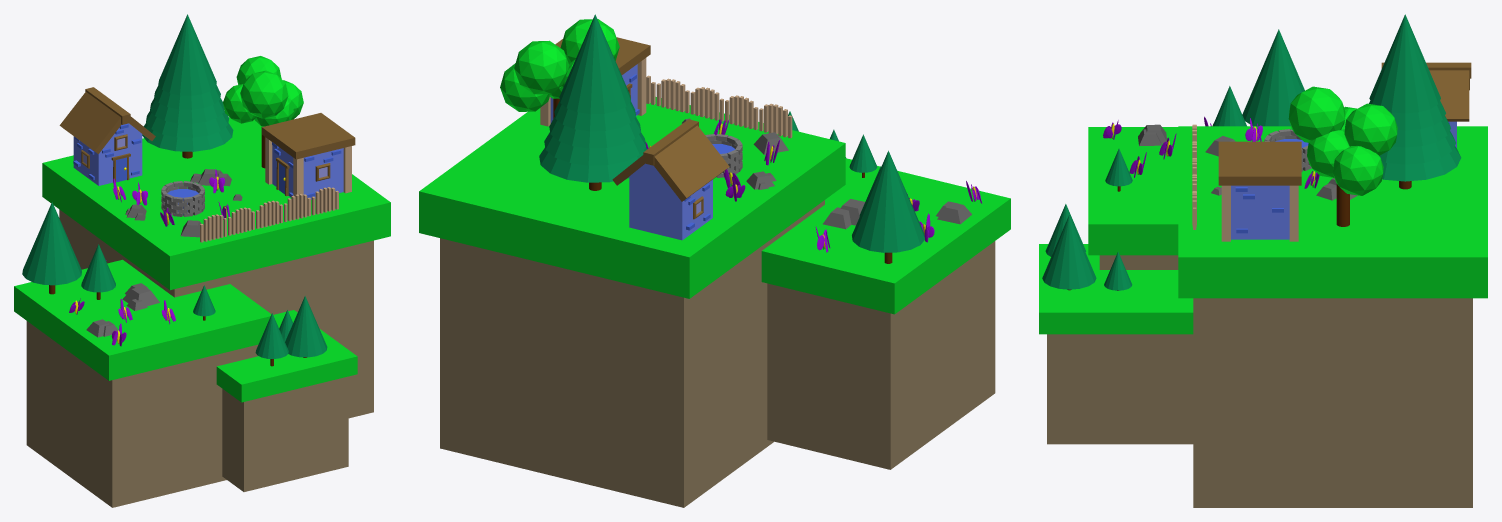
The model's file is island.glb.
The picture shows the model from 3 angles, left to right: view 1: azimuth 30°, elevation 25°; view 2: azimuth 150°, elevation 25°; view 3: azimuth 270°, elevation 25°; orthographic projection. The views are drawn at different scales.
Visible parts, largest first — view 1: Cube.160, Cube.001, Cube.161, Cube, Cube.162, Cube.163, Cone, Cube.119, Cone.005, Cube.038, Cube.039, Cube.113 (+13 smaller); view 2: Cube, Cube.001, Cube.160, Cube.161, Cone, Cone.005, Cube.039, Cube.038, Icosphere.007, Cone.002, Cone.003, Cone.001 (+5 smaller); view 3: Cube, Cube.001, Cube.162, Cube.161, Cube.163, Cone.005, Cube.119, Cone, Cube.113, Icosphere.010, Cone.006, Icosphere.007 (+14 smaller).
Part boxes in pixels (x1,y1,x2,y2): Cube.160: [26, 321, 258, 507]; Cube.001: [42, 117, 390, 290]; Cube.161: [14, 259, 271, 380]; Cube: [59, 209, 373, 418]; Cube.162: [222, 376, 348, 491]; Cube.163: [216, 310, 357, 402]; Cone: [22, 202, 81, 285]; Cube.119: [262, 113, 355, 159]; Cone.005: [158, 14, 216, 95]; Cube.038: [59, 92, 121, 153]; Cube.039: [73, 133, 142, 185]; Cube.113: [272, 145, 343, 199]; Cube: [440, 200, 824, 507]; Cube.001: [419, 97, 845, 298]; Cube.160: [767, 241, 995, 469]; Cube.161: [761, 158, 1010, 314]; Cone: [852, 150, 924, 252]; Cone.005: [559, 14, 630, 114]; Cube.039: [629, 176, 712, 240]; Cube.038: [654, 125, 729, 201]; Icosphere.007: [514, 40, 569, 94]; Cone.002: [544, 132, 646, 165]; Cone.003: [549, 117, 640, 148]; Cone.001: [539, 147, 647, 182]; Cube: [1193, 298, 1472, 507]; Cube.001: [1178, 126, 1487, 298]; Cube.162: [1047, 334, 1193, 444]; Cube.161: [1088, 127, 1178, 255]; Cube.163: [1039, 244, 1193, 334]; Cone.005: [1369, 14, 1440, 113]; Cube.119: [1218, 141, 1301, 185]; Cone: [1242, 29, 1304, 126]; Cube.113: [1231, 185, 1289, 239]; Icosphere.010: [1288, 86, 1345, 142]; Cone.006: [1042, 215, 1096, 289]; Icosphere.007: [1344, 103, 1397, 155].
Size of the model in its own units: 13.36 by 14.16 by 13.23.
